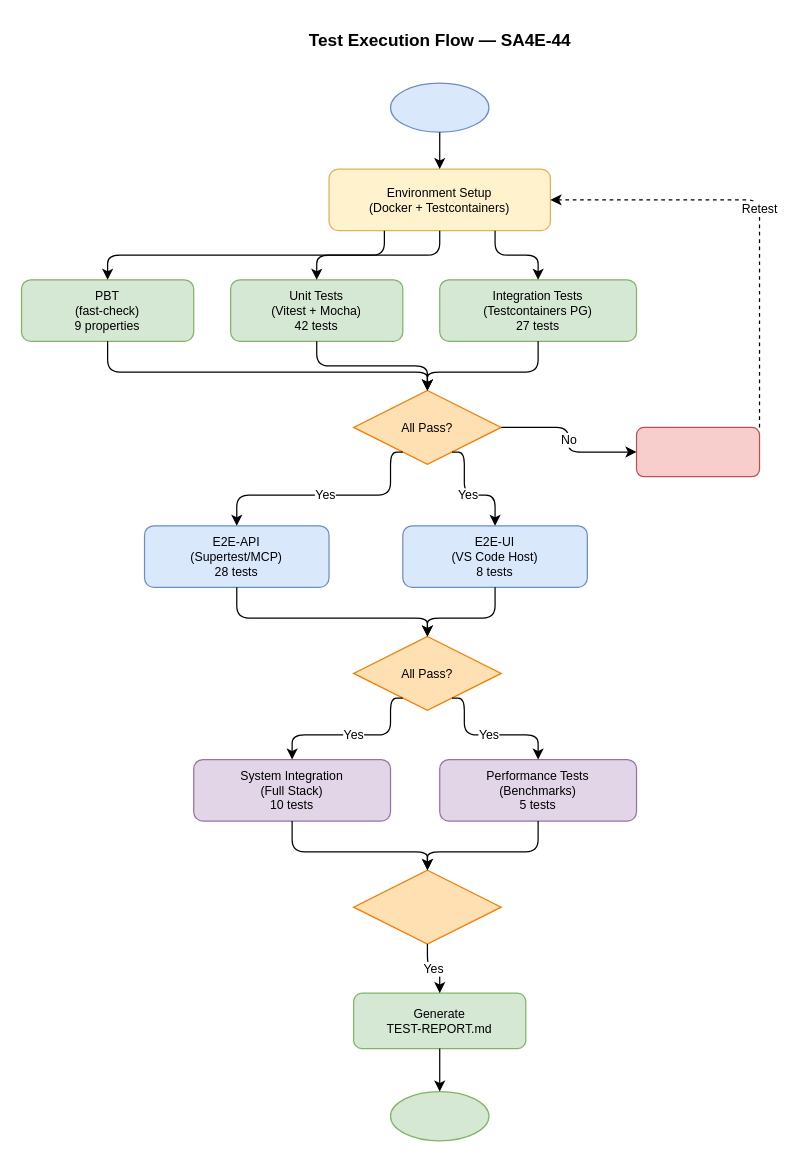
This 798x1162 diagram has some shape labels left out. The shapes that lost their labels are listed below. From the top down, each one's centre as x and y in pixels, then its label:
At (x=439, y=107): "Start".
At (x=697, y=451): "Fix & Retest".
At (x=426, y=906): "Exit Criteria Met?".
At (x=439, y=1115): "Done".
